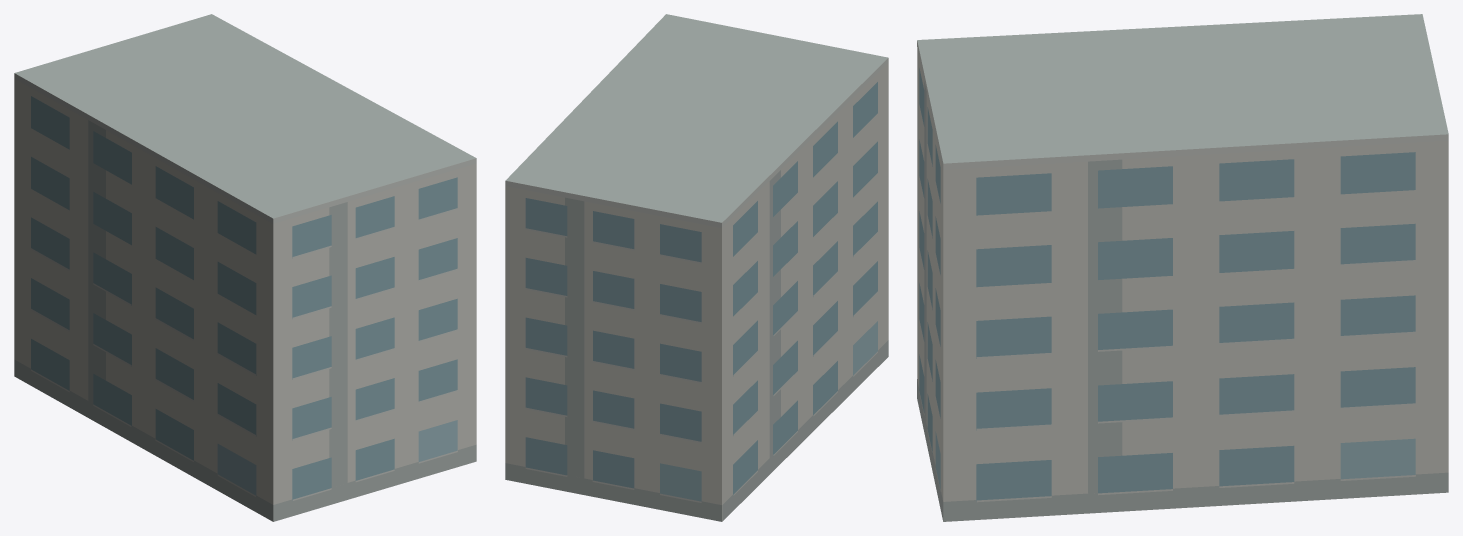
Rendered from survey-upis-32576871.glb.
3 renders of one model, left to right at view 1: azimuth 30°, elevation 25°; view 2: azimuth 150°, elevation 25°; view 3: azimuth 270°, elevation 25°, orthographic. The views are drawn at different scales.
Visible parts, largest first — view 1: survey-upis-32576871.tmp; view 2: survey-upis-32576871.tmp; view 3: survey-upis-32576871.tmp.
Part boxes in pixels (x1,y1,x2,y2): survey-upis-32576871.tmp: (14, 14, 476, 521); survey-upis-32576871.tmp: (505, 14, 888, 521); survey-upis-32576871.tmp: (917, 14, 1448, 521).
Bounding box in the file's own units: 12.32 × 13.75 × 18.5.
